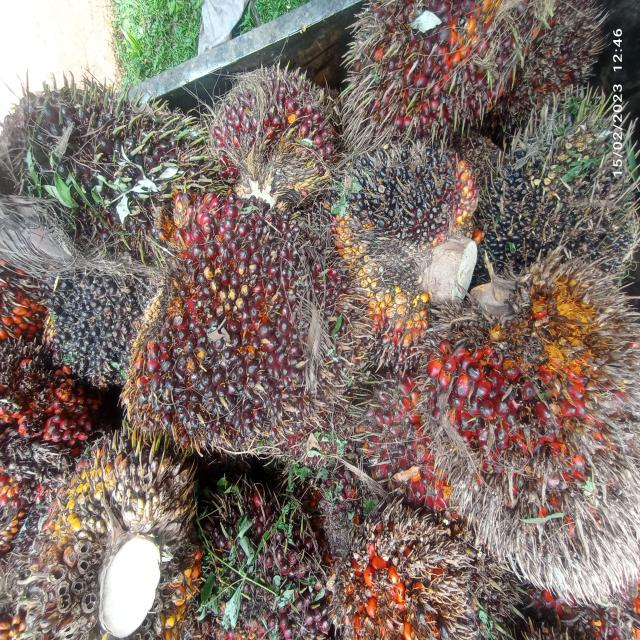fraksi 00: (320, 135, 482, 340), (490, 65, 640, 278), (29, 248, 163, 388)
fraksi 1: (76, 184, 359, 476), (198, 64, 352, 200)
fraksi 3: (427, 273, 632, 590)
fraksi 4: (337, 521, 482, 640)
